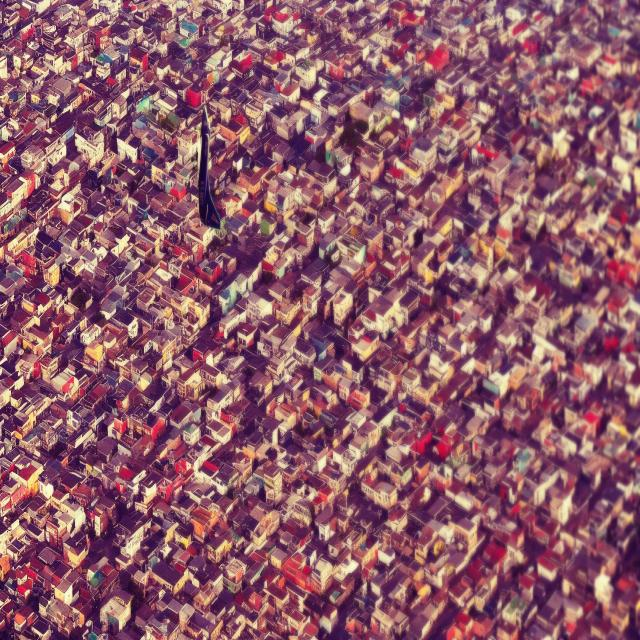airplane: (197, 104, 221, 229)
